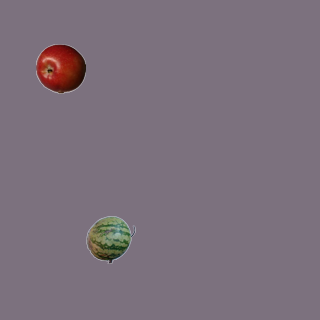Apple Braeburn: (35, 43, 85, 93)
Watermelon: (85, 214, 135, 264)
